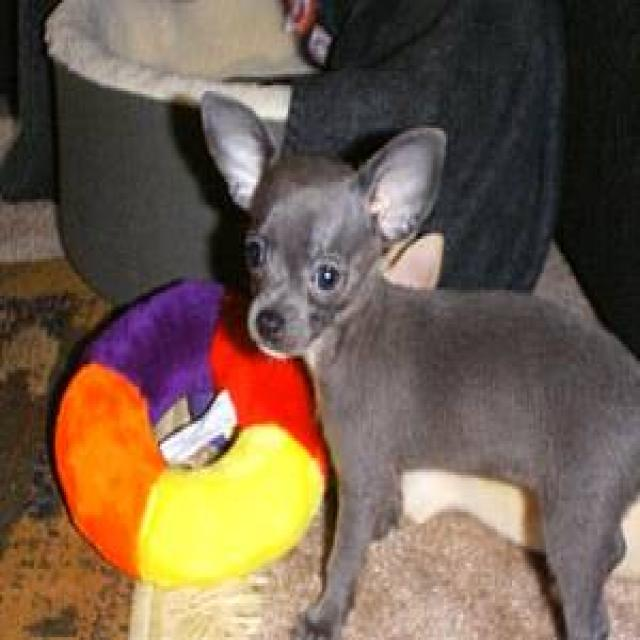dog-chihuahua: (194, 77, 636, 634)
